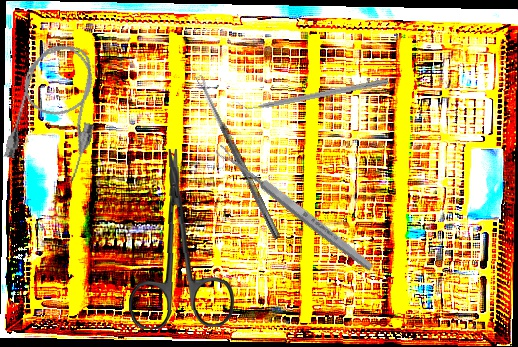Cannula: (1, 37, 112, 184)
Chopper: (234, 70, 390, 114)
Iris Scissors: (123, 147, 236, 330)
Surgical Spoon: (214, 143, 375, 273), (195, 73, 282, 241)
